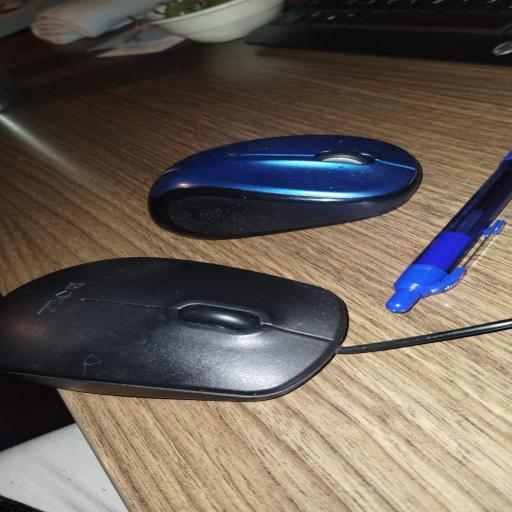mouse: (0, 258, 347, 400), (149, 135, 421, 238)
pen: (386, 152, 511, 312)
